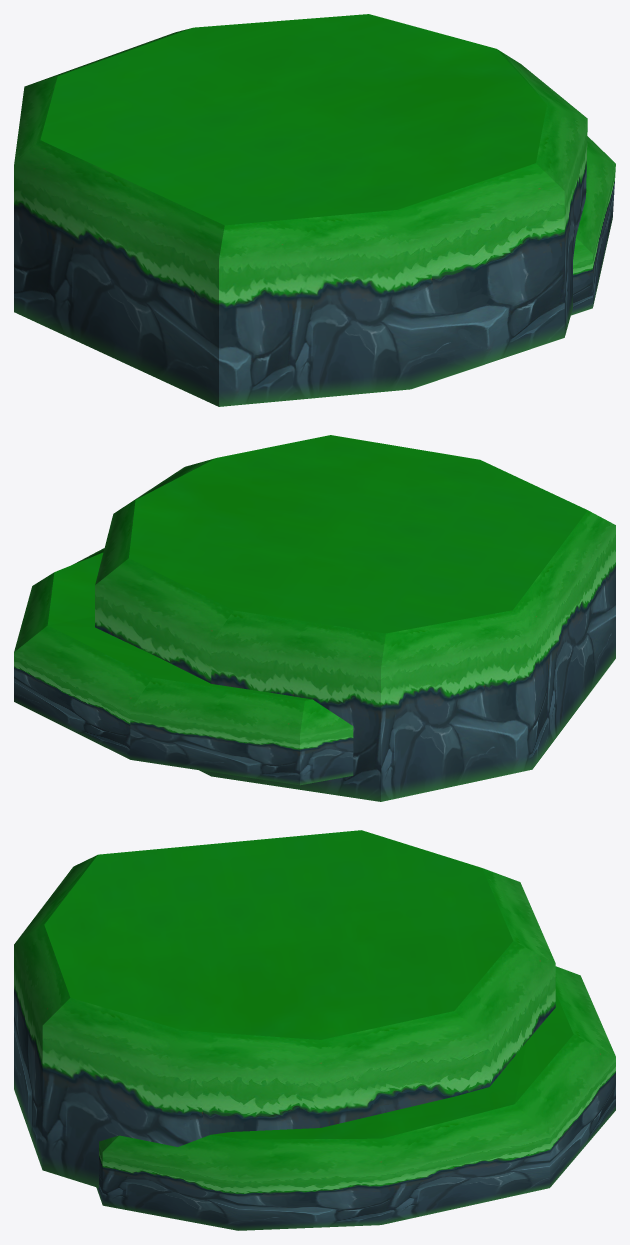
Rendered from rc_01_bud_06_02.FBX.
3 views of the same model, one above another, from view 1: azimuth 30°, elevation 25°; view 2: azimuth 150°, elevation 25°; view 3: azimuth 270°, elevation 25° (orthographic). The views are drawn at different scales.
Visible parts, largest first — view 1: Box008; view 2: Box008; view 3: Box008.
Boxes of the visible parts, x1=… form: Box008: x1=14, y1=14, x2=615, y2=406; Box008: x1=14, y1=435, x2=615, y2=801; Box008: x1=14, y1=830, x2=615, y2=1230.
Size of the model in its own units: 7414 by 7215 by 2283.
